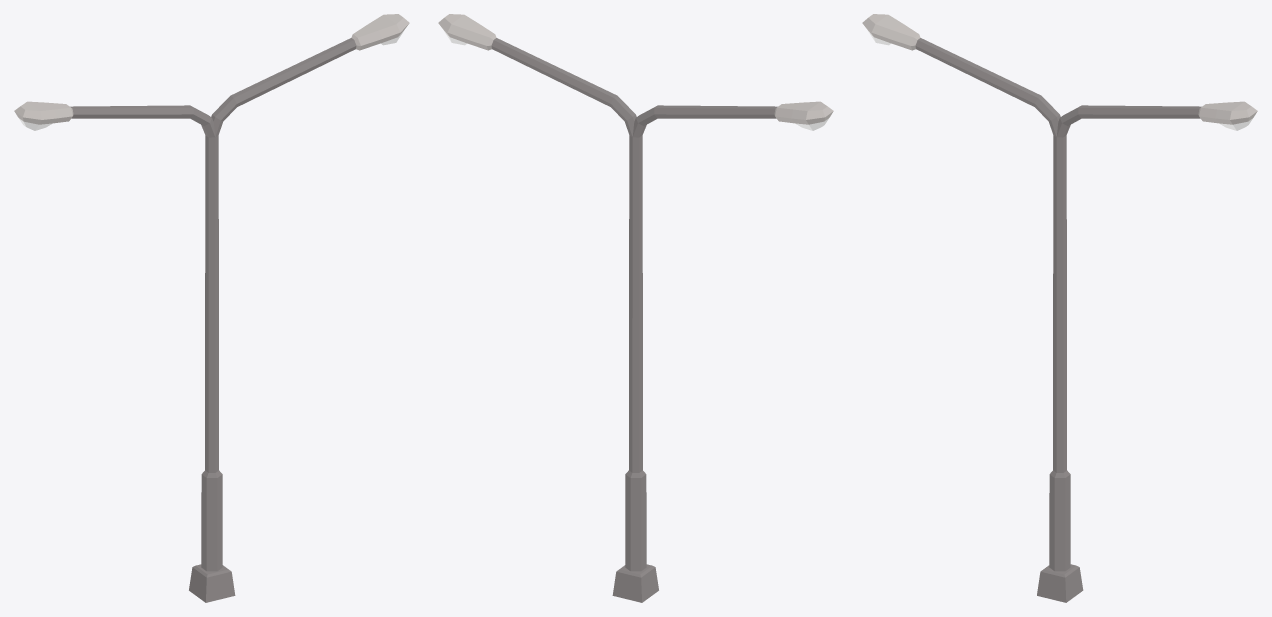
File: lamp-road-double.glb
3 renders of one model, left to right at view 1: azimuth 30°, elevation 25°; view 2: azimuth 150°, elevation 25°; view 3: azimuth 330°, elevation 25°, orthographic.
Visible parts, largest first — view 1: lamp-road-double; view 2: lamp-road-double; view 3: lamp-road-double.
Boxes of the visible parts, box(x1,y1,x2,y2) form: lamp-road-double: box(14, 14, 409, 602); lamp-road-double: box(438, 14, 833, 602); lamp-road-double: box(862, 14, 1257, 602).
Bounding box in the file's own units: 7.21 × 9.46 × 0.5996.
Materials: 1 (1 with a texture image).
